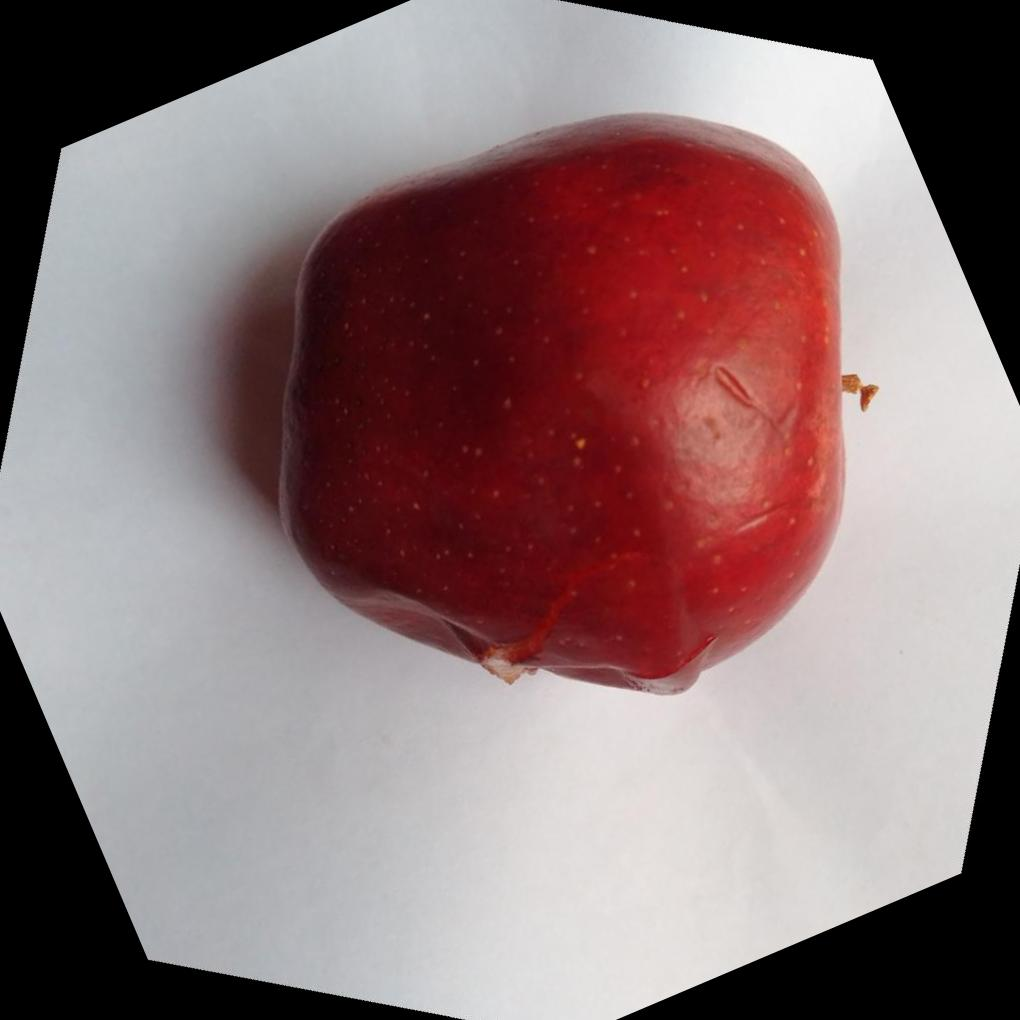FreshOrange: (275, 106, 848, 693)
